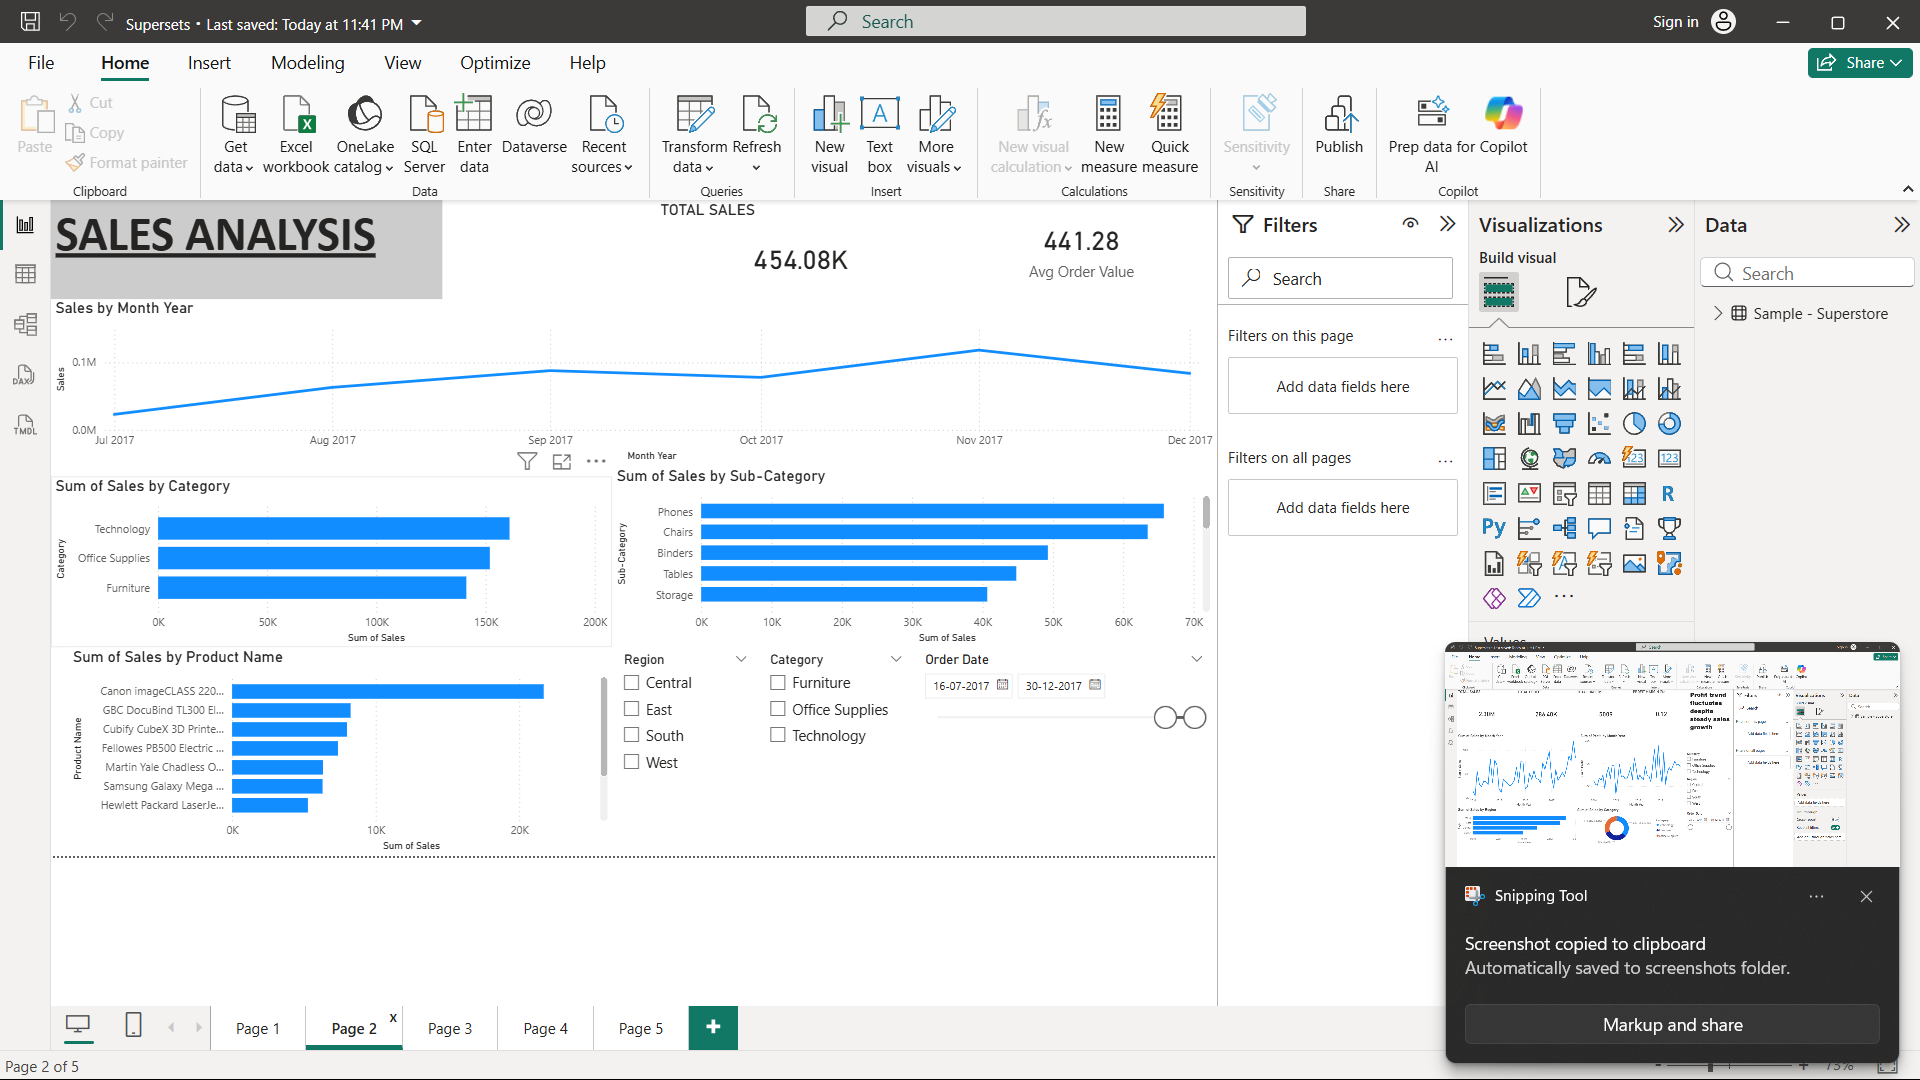

The page's visual inventory and layout, read from the dashboard file:
{"tool":"powerbi","page":{"name":"Page 2","canvas":[1280,720],"ordinal":1},"visuals":[{"type":"card","title":"TOTAL SALES","fields":{"Values":["Sum(Sample - Superstore.Sales)"]},"box":[664.2,0,318.4,108.4],"z":0},{"type":"card","fields":{"Values":["Sample - Superstore.Avg Order Value"]},"box":[982.5,0,297.8,108.4],"z":1000},{"type":"lineChart","title":"Sales by Month Year","fields":{"Category":["Sample - Superstore.Month Year"],"Y":["Sum(Sample - Superstore.Sales)"]},"box":[0,108.4,1280.3,183.9],"z":2000},{"type":"clusteredBarChart","fields":{"Y":["Sum(Sample - Superstore.Sales)"],"Category":["Sample - Superstore.Category"]},"box":[0,303.3,616.1,188],"z":3000},{"type":"barChart","fields":{"Y":["Sum(Sample - Superstore.Sales)"],"Category":["Sample - Superstore.Sub-Category"]},"box":[616.1,292.3,661.4,199],"z":4000},{"type":"barChart","fields":{"Category":["Sample - Superstore.Product Name"],"Y":["Sum(Sample - Superstore.Sales)"]},"box":[19.2,491.3,596.9,229.2],"z":5000},{"type":"slicer","fields":{"Values":["Sample - Superstore.Region"]},"box":[616.1,491.3,160.5,229.2],"z":6000},{"type":"slicer","fields":{"Values":["Sample - Superstore.Category"]},"box":[776.7,491.3,170.2,229.2],"z":7000},{"type":"slicer","fields":{"Values":["Sample - Superstore.Order Date"]},"box":[947,491,330,229],"z":8000},{"type":"textbox","box":[0,0,429.5,108.4],"z":8001}]}

Visuals, with their boxes on the page's 1280x720 design canvas (x1, y1, x2, y2). These are canvas units, not pixel positions in the 1920x1080 screenshot, which may show the page scaled, cropped or inside an application window:
"TOTAL SALES" card: l=664, t=0, r=983, b=108
card - Sample - Superstore.Avg Order Value: l=982, t=0, r=1280, b=108
"Sales by Month Year" lineChart: l=0, t=108, r=1280, b=292
clusteredBarChart - Sum(Sample - Superstore.Sales) x Sample - Superstore.Category: l=0, t=303, r=616, b=491
barChart - Sum(Sample - Superstore.Sales) x Sample - Superstore.Sub-Category: l=616, t=292, r=1278, b=491
barChart - Sample - Superstore.Product Name x Sum(Sample - Superstore.Sales): l=19, t=491, r=616, b=720
slicer - Sample - Superstore.Region: l=616, t=491, r=777, b=720
slicer - Sample - Superstore.Category: l=777, t=491, r=947, b=720
slicer - Sample - Superstore.Order Date: l=947, t=491, r=1277, b=720
textbox: l=0, t=0, r=430, b=108
